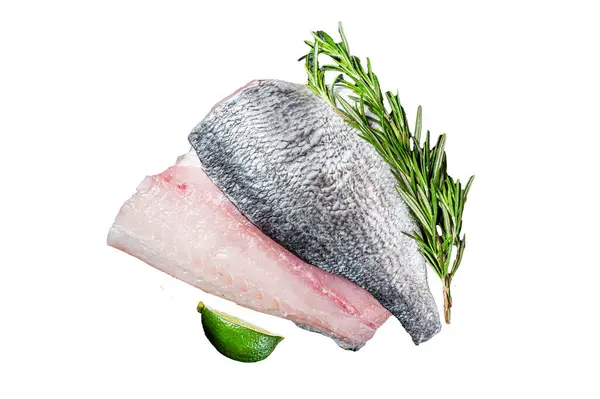bream-fish: (106, 152, 394, 351)
